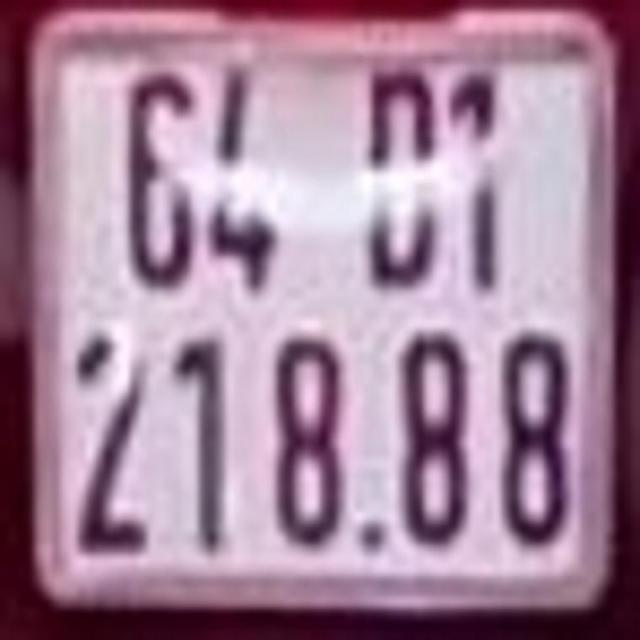1: (172, 334, 228, 548), (449, 71, 496, 292)
2: (76, 333, 151, 558)
4: (206, 71, 276, 288)
6: (129, 68, 194, 286)
8: (394, 328, 472, 545), (274, 336, 342, 551), (504, 330, 570, 546)
D: (371, 71, 437, 292)
